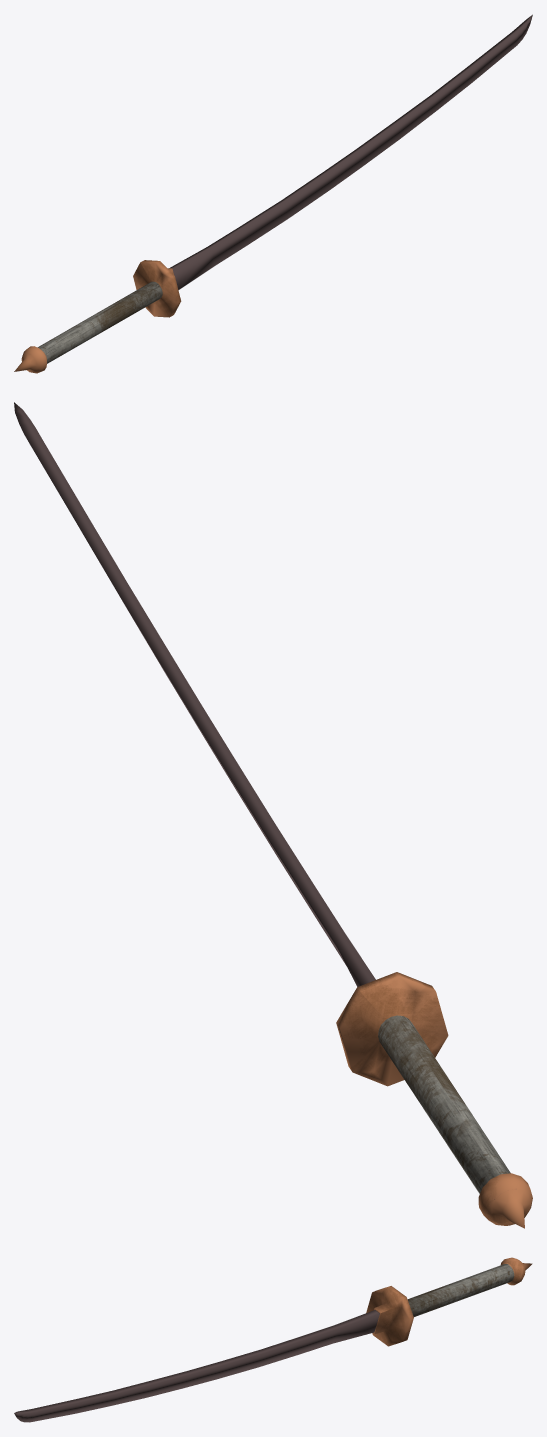
File: Anim_idle_katana_objetos.0022.obj
3 renders of one model, top to bottom at view 1: azimuth 90°, elevation 25°; view 2: azimuth 150°, elevation 25°; view 3: azimuth 270°, elevation 25°, orthographic. The views are drawn at different scales.
Parts seen in each view (by area): view 1: Katana1; view 2: Katana1; view 3: Katana1.
Boxes of the visible parts, x1=… form: Katana1: x1=14, y1=14, x2=532, y2=373; Katana1: x1=14, y1=402, x2=532, y2=1228; Katana1: x1=14, y1=1257, x2=532, y2=1422.
Bounding box in the file's own units: 4.01 × 0.8624 × 3.47.
